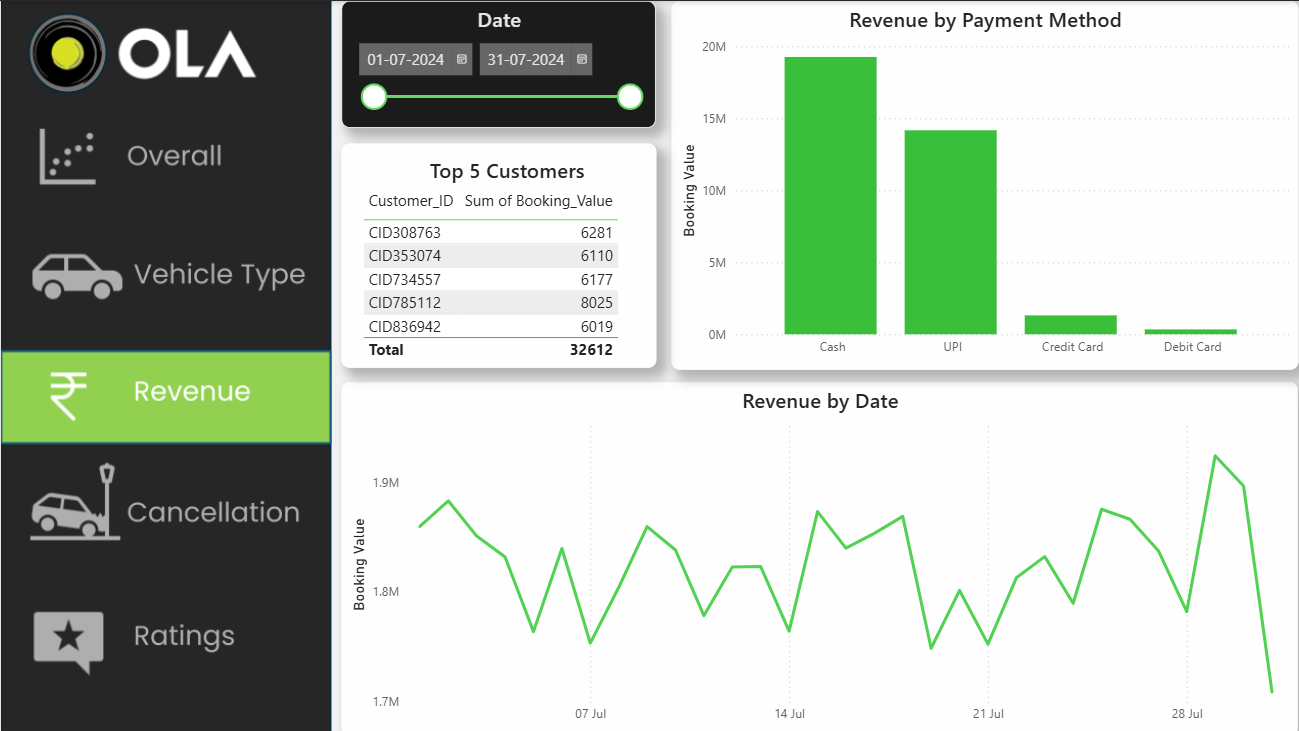

Layout of this report page (visuals, bound fields, positions):
{"tool":"powerbi","page":{"name":"Revenue","canvas":[1280,720],"ordinal":2},"visuals":[{"type":"actionButton","box":[0,218.6,322.8,98.3],"z":0},{"type":"actionButton","box":[0,446.1,322.8,98.3],"z":1000},{"type":"actionButton","box":[0,572.3,322.8,98.3],"z":2000},{"type":"actionButton","box":[0,104.2,322.8,98.3],"z":3000},{"type":"lineChart","title":"Revenue by Date","fields":{"Category":["Bookings-100000-Rows xlsx - July.Date"],"Y":["Sum(Bookings-100000-Rows xlsx - July.Booking_Value)"]},"box":[333,373.3,935.6,347],"z":4000},{"type":"columnChart","title":"Revenue by Payment Method","fields":{"Category":["Bookings-100000-Rows xlsx - July.Payment_Method"],"Y":["Sum(Bookings-100000-Rows xlsx - July.Booking_Value)"]},"box":[655.7,0,613.3,360.4],"z":5000},{"type":"slicer","title":"Date","fields":{"Values":["Bookings-100000-Rows xlsx - July.Date"]},"box":[333.1,0,307.4,124.2],"z":6000},{"type":"tableEx","title":"Top 5 Customers","fields":{"Values":["Bookings-100000-Rows xlsx - July.Customer_ID","Sum(Bookings-100000-Rows xlsx - July.Booking_Value)"]},"box":[332.6,139.8,308,219.2],"z":7000}]}

Visuals, with their boxes in screenshot pixels (x1, y1, x2, y2), scaled from the page's 1280x720 canvas onto the 1299x731 screenshot:
actionButton: 0:222:328:322
actionButton: 0:453:328:553
actionButton: 0:581:328:681
actionButton: 0:106:328:206
"Revenue by Date" lineChart: 338:379:1287:730
"Revenue by Payment Method" columnChart: 665:0:1288:366
"Date" slicer: 338:0:650:126
"Top 5 Customers" tableEx: 338:142:650:364
